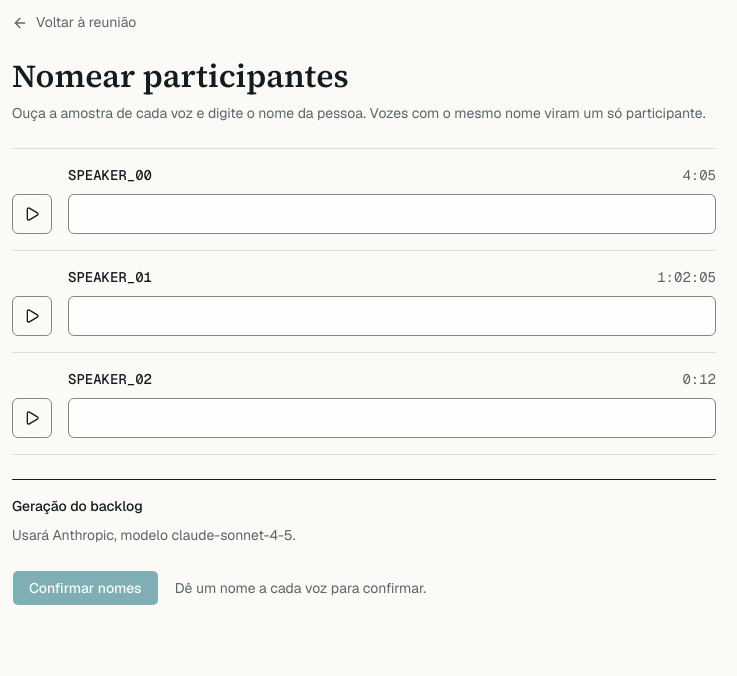
Test: indica que speakers com o mesmo nome serão juntados (27)
Type "Ana" into the field named "Nome de SPEAKER_00".
click(392, 214); type("Ana")  # box [68, 194, 716, 234]
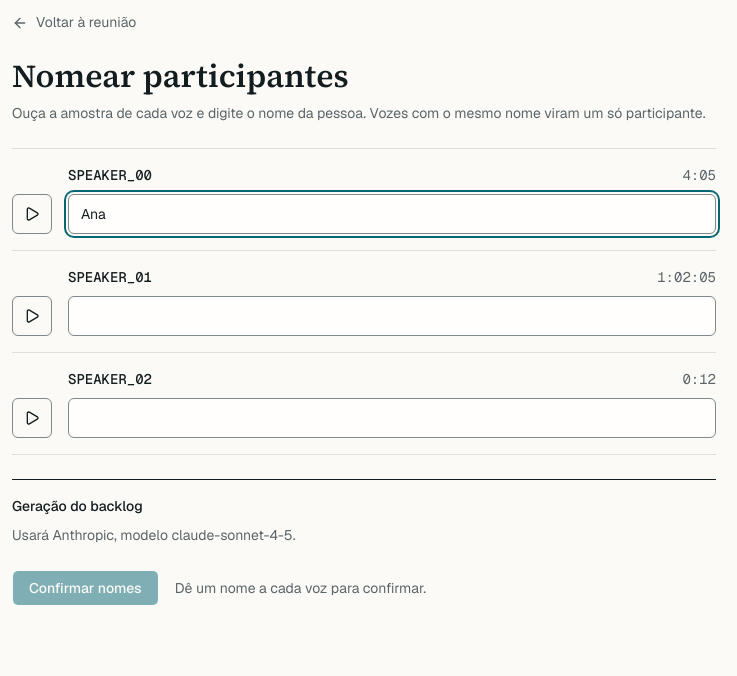
Type "Bruno" into the field named "Nome de SPEAKER_01".
click(392, 316); type("Bruno")  # box [68, 296, 716, 336]
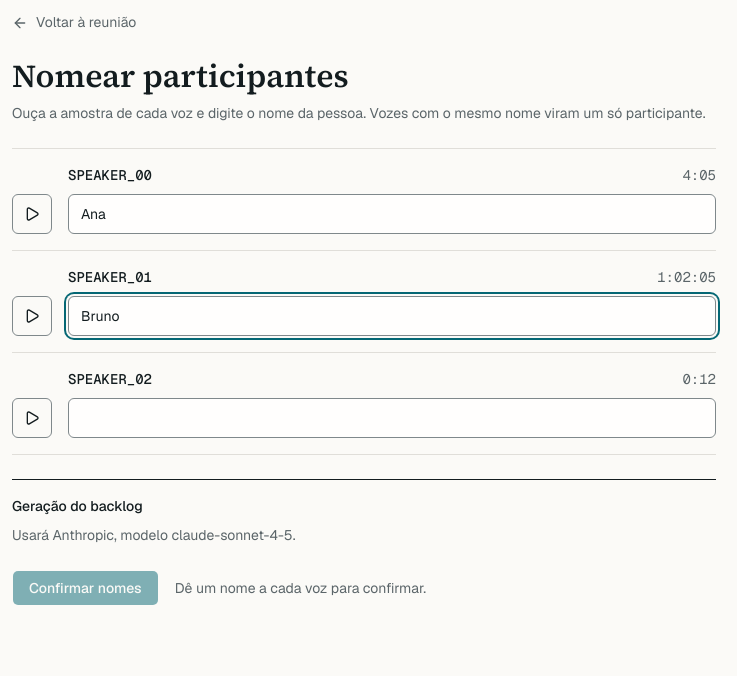
Type "  ana " into the field named "Nome de SPEAKER_02".
click(392, 418); type("  ana ")  # box [68, 398, 716, 438]
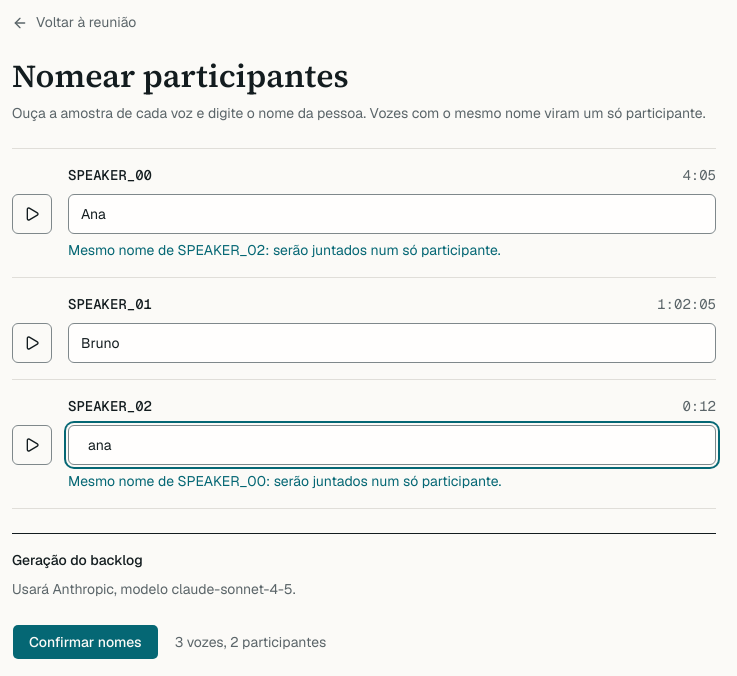
Expected: the text "3 vozes, 2 participantes" is shown, [175, 632, 326, 653]
